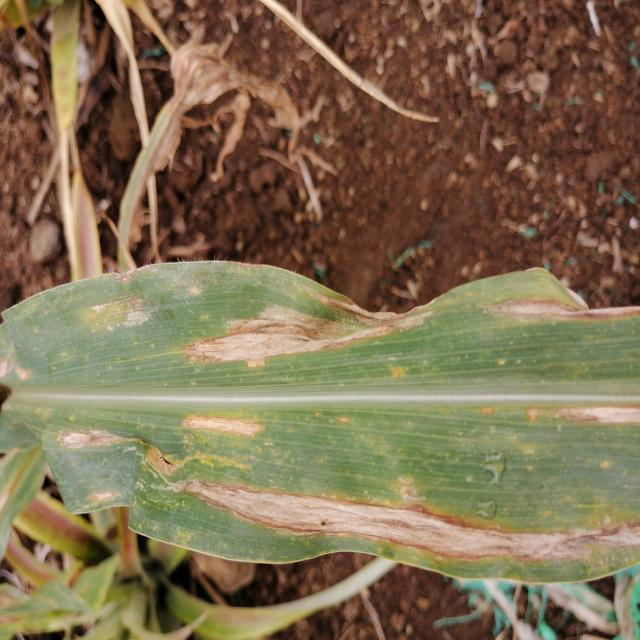Corn_Leaf_Blight: (0, 265, 640, 583)
